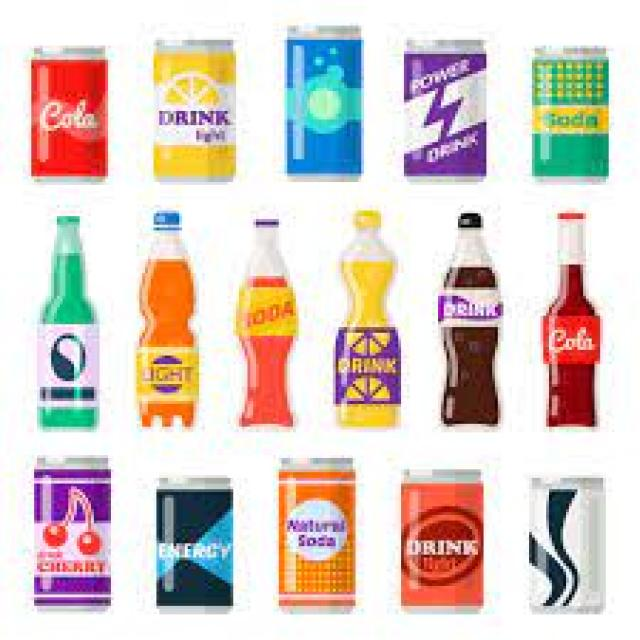Cans: (23, 452, 119, 614), (395, 461, 492, 620), (273, 452, 364, 618), (148, 31, 242, 188), (276, 23, 367, 185), (22, 37, 116, 188), (396, 34, 490, 182), (151, 470, 242, 618), (529, 37, 614, 185)
